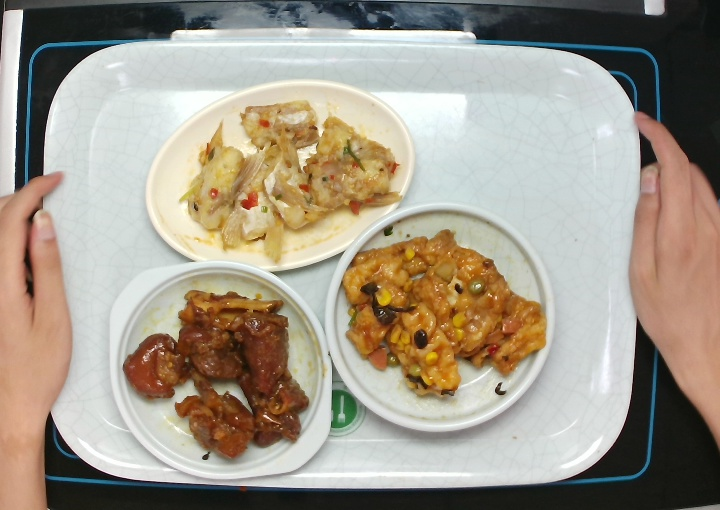JYsf-Shuang_Er_Pan: (104, 255, 338, 483)
JYsf-Tuo_Yuan_Wan: (141, 71, 421, 276)
JYsf-Xiao_Yuan_Pan: (321, 196, 553, 434)
